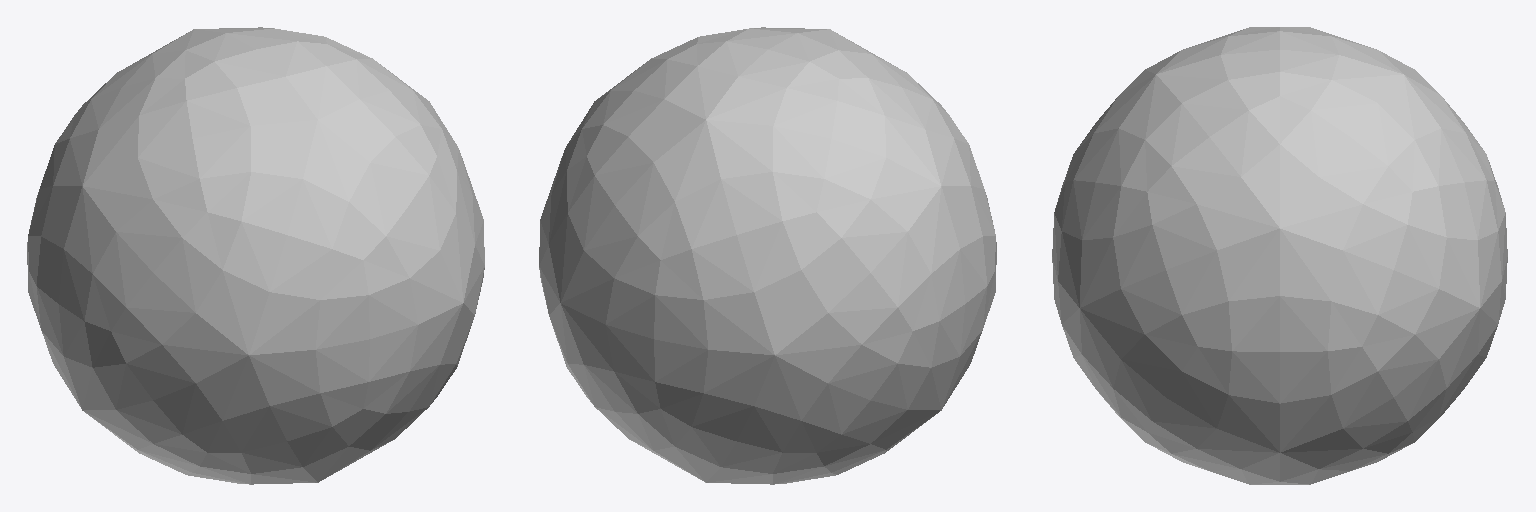
Rendered from model_planet_small.obj.
3 renders of one model, left to right at view 1: azimuth 30°, elevation 25°; view 2: azimuth 150°, elevation 25°; view 3: azimuth 270°, elevation 25°, orthographic.
Visible parts, largest first — view 1: obj_planet_1; view 2: obj_planet_1; view 3: obj_planet_1.
Part boxes in pixels (x1,y1,x2,y2): obj_planet_1: (27, 27, 484, 484); obj_planet_1: (539, 27, 996, 484); obj_planet_1: (1052, 27, 1507, 484).
Size of the model in its own units: 10.04 by 10.04 by 10.04.